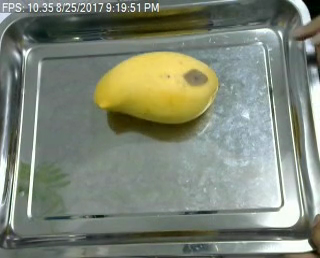Mango: (92, 50, 218, 129)
